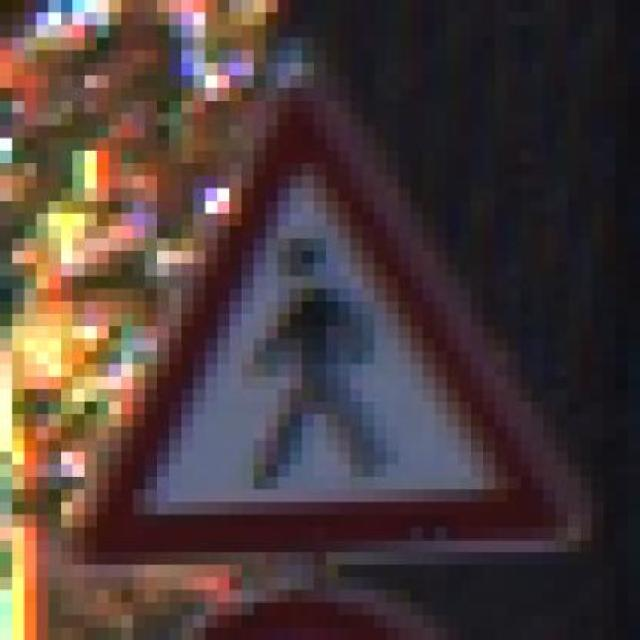Pedestrian Crossing: (85, 75, 592, 578)
